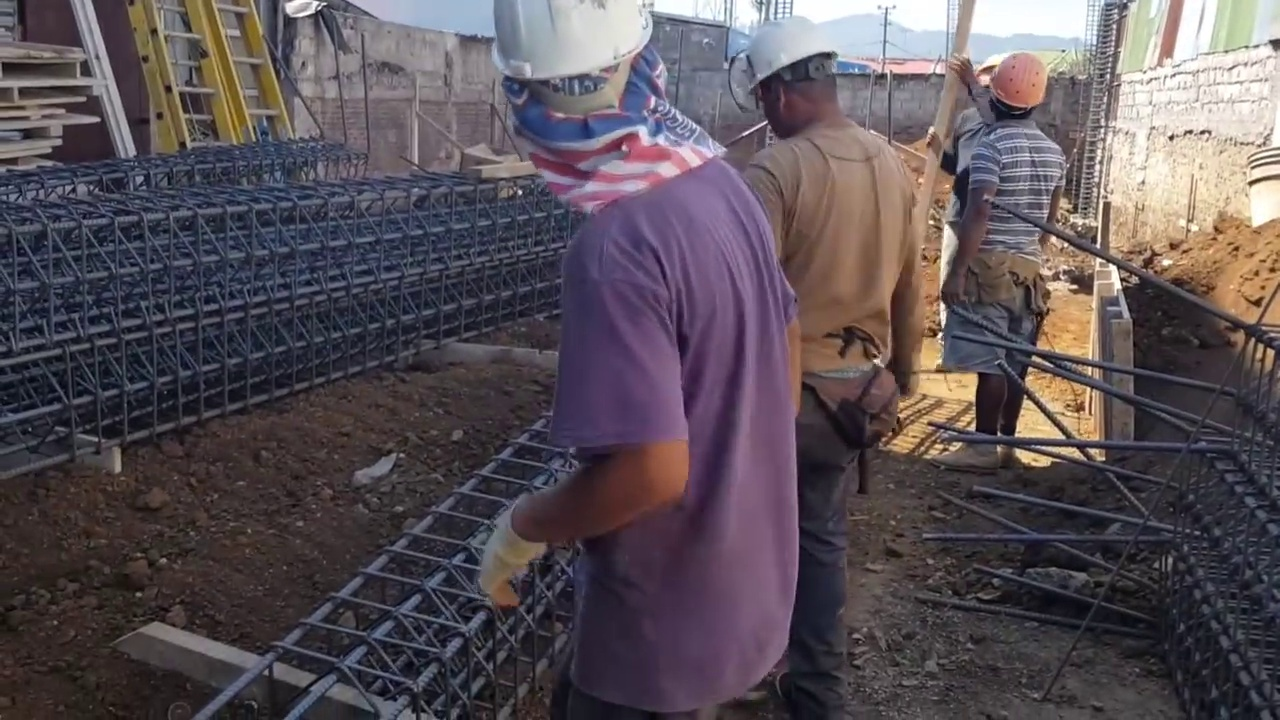helmet: (478, 2, 654, 106), (737, 20, 839, 106), (991, 52, 1053, 108)
helmet-on: (475, 3, 671, 170), (741, 14, 850, 144), (989, 51, 1054, 129)
person: (470, 1, 791, 720), (737, 19, 914, 705), (932, 49, 1064, 461), (925, 50, 1001, 369)
